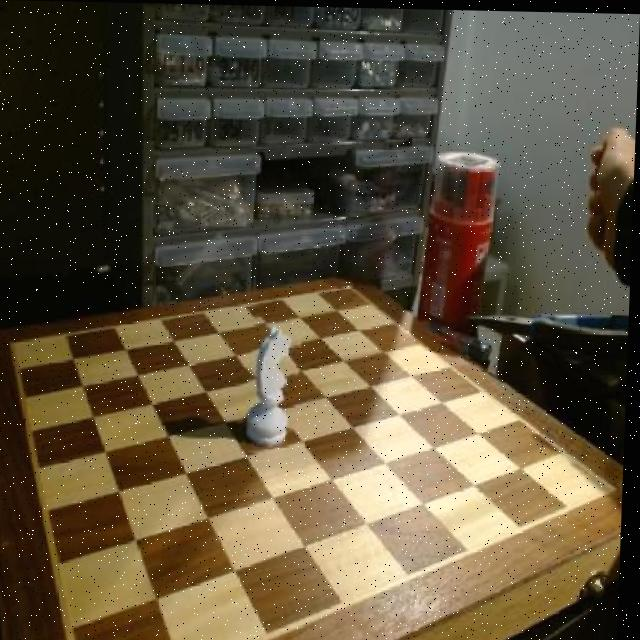white-king: (245, 317, 302, 456)
